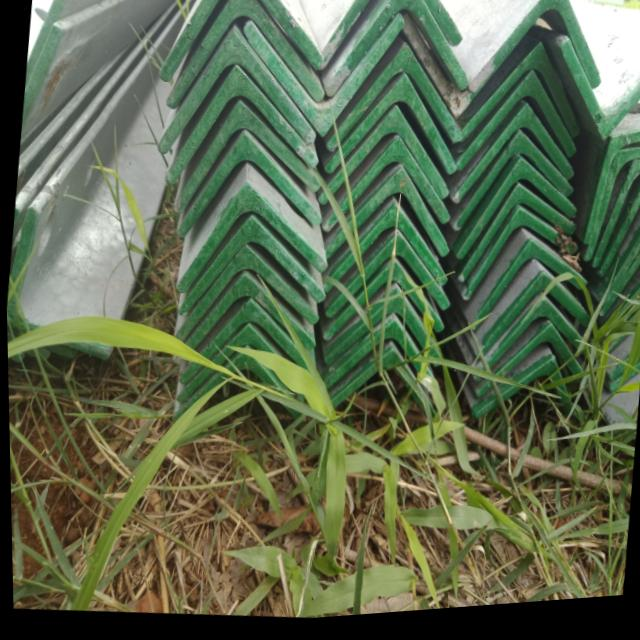metal-angles: (157, 31, 315, 154), (243, 25, 403, 142), (165, 0, 323, 112), (164, 70, 315, 185), (172, 100, 321, 215), (174, 186, 325, 295), (173, 133, 321, 240), (175, 217, 321, 318), (172, 247, 317, 344), (326, 0, 469, 98), (324, 78, 455, 183), (326, 52, 460, 153), (315, 109, 446, 209), (451, 136, 573, 237), (456, 51, 576, 150), (322, 141, 446, 236), (451, 112, 572, 209), (456, 167, 574, 265), (454, 81, 575, 175), (319, 206, 445, 296), (458, 191, 574, 286), (469, 246, 586, 340), (461, 212, 573, 305), (198, 302, 308, 376), (185, 276, 284, 352), (484, 306, 580, 375), (493, 331, 571, 384)
